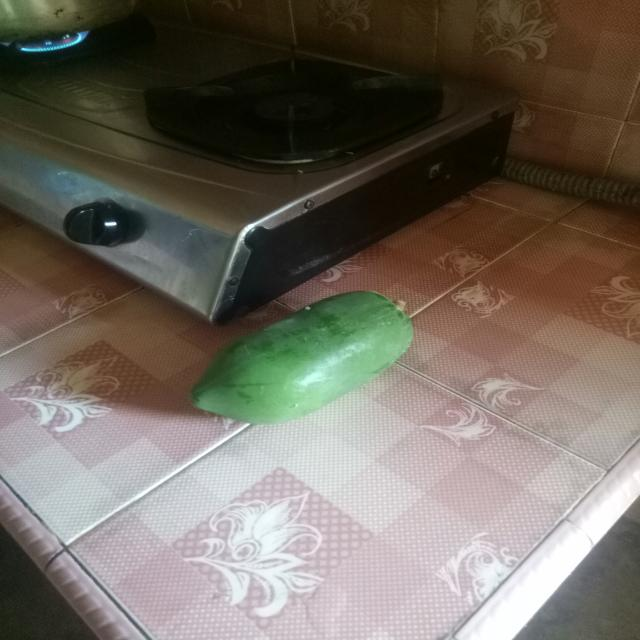Pepaya unrippen: (190, 287, 417, 421)
